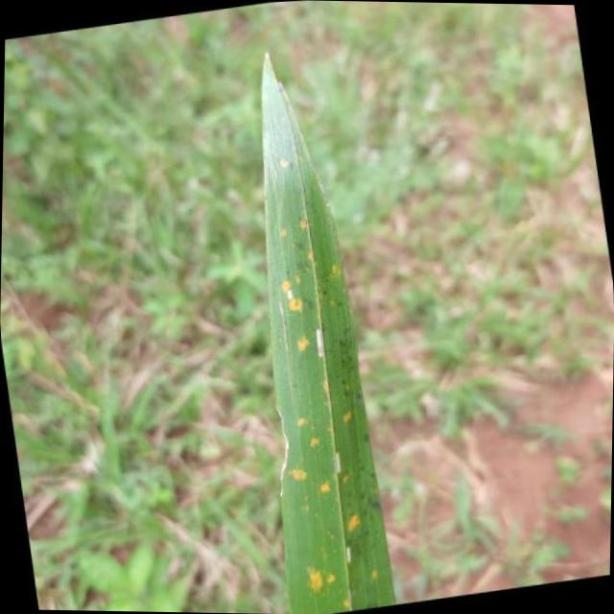Kalium: (258, 45, 398, 612)
